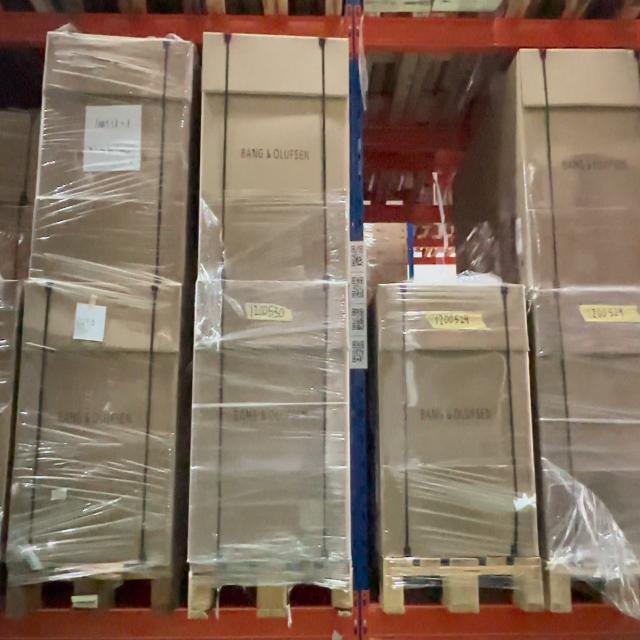box: (11, 270, 175, 556), (386, 284, 534, 556), (202, 289, 358, 545), (202, 28, 342, 286), (48, 30, 185, 274), (521, 55, 640, 286)
